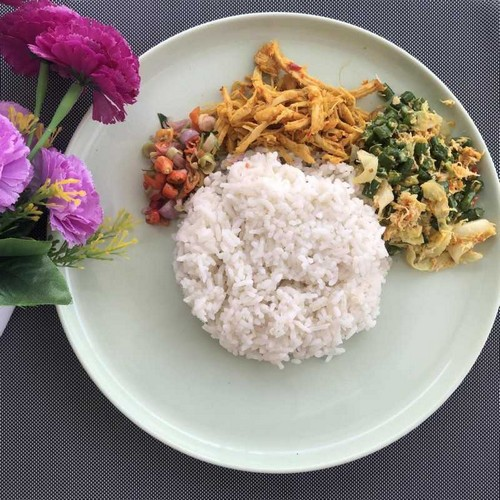nasi campur bali: (147, 59, 453, 359)
